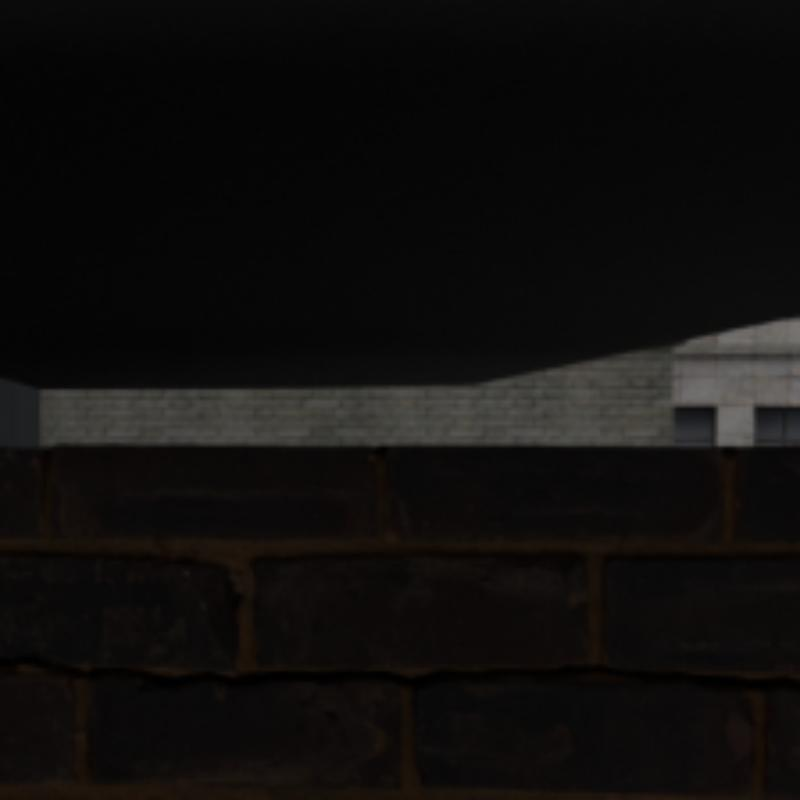pothole: (0, 654, 796, 686)
